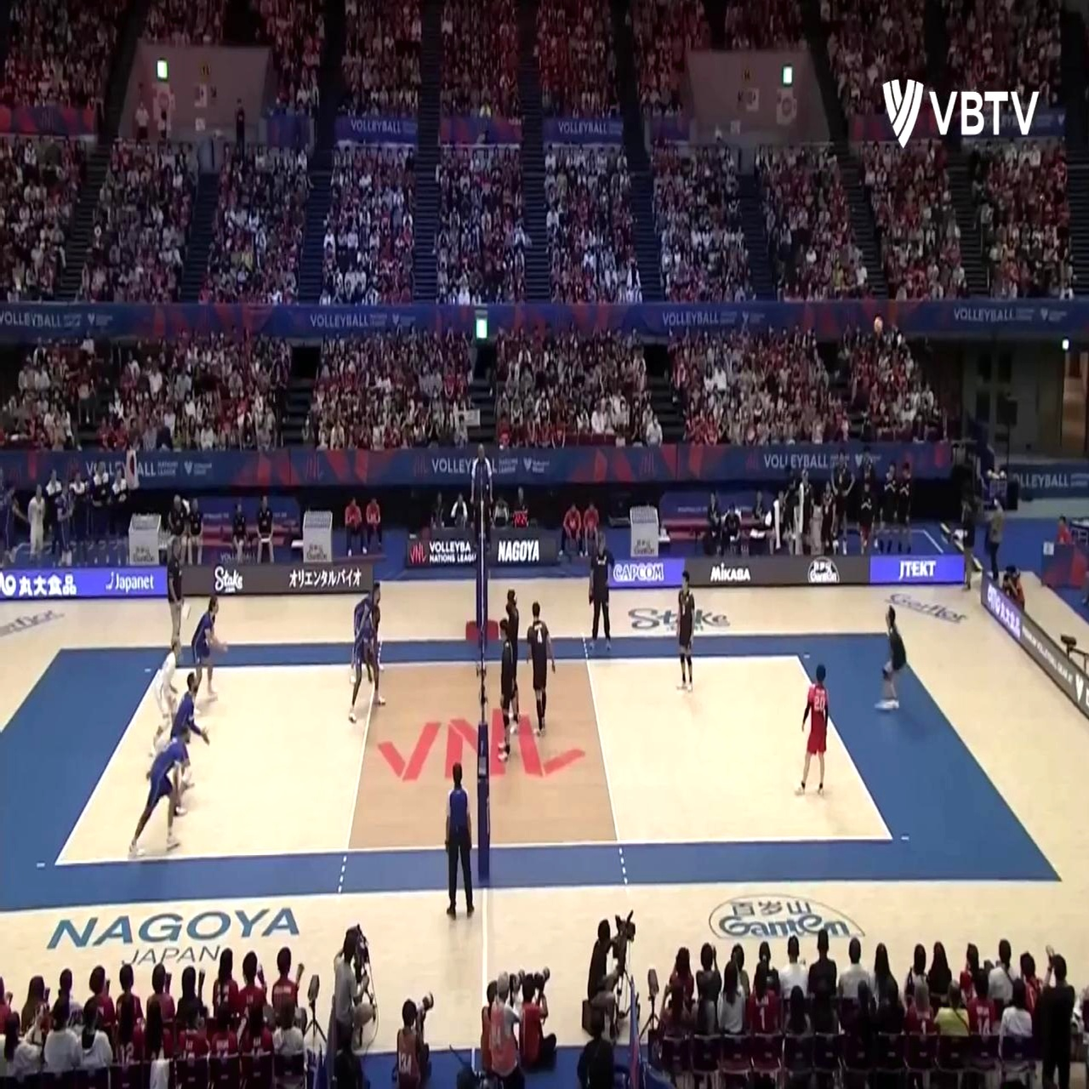ball: (873, 317, 882, 335)
